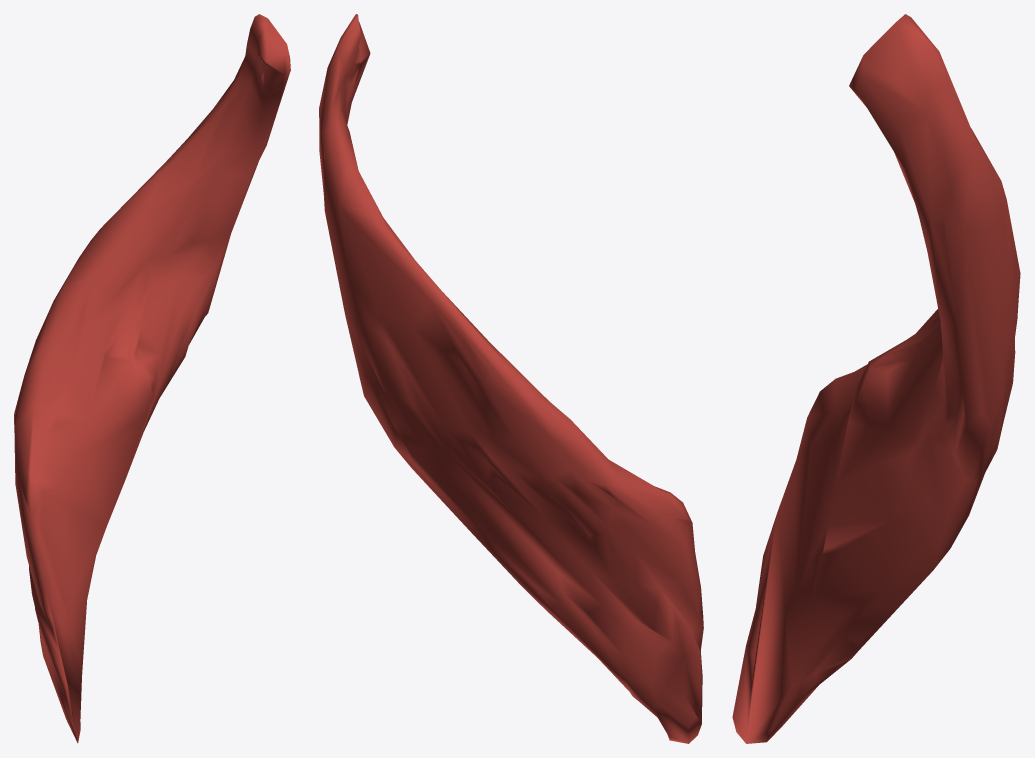
File: musculos-popliteus-muscle-l.glb
3 views of the same model, side by side, from view 1: azimuth 30°, elevation 25°; view 2: azimuth 150°, elevation 25°; view 3: azimuth 270°, elevation 25° (orthographic). The views are drawn at different scales.
Visible parts, largest first — view 1: Popliteus muscle.l; view 2: Popliteus muscle.l; view 3: Popliteus muscle.l.
Boxes of the visible parts, left/top/right/bottom form: Popliteus muscle.l: left=14, top=14, right=290, bottom=743; Popliteus muscle.l: left=319, top=14, right=703, bottom=743; Popliteus muscle.l: left=732, top=14, right=1020, bottom=743.
Size of the model in its own units: 0.0591 by 0.1251 by 0.0365.
